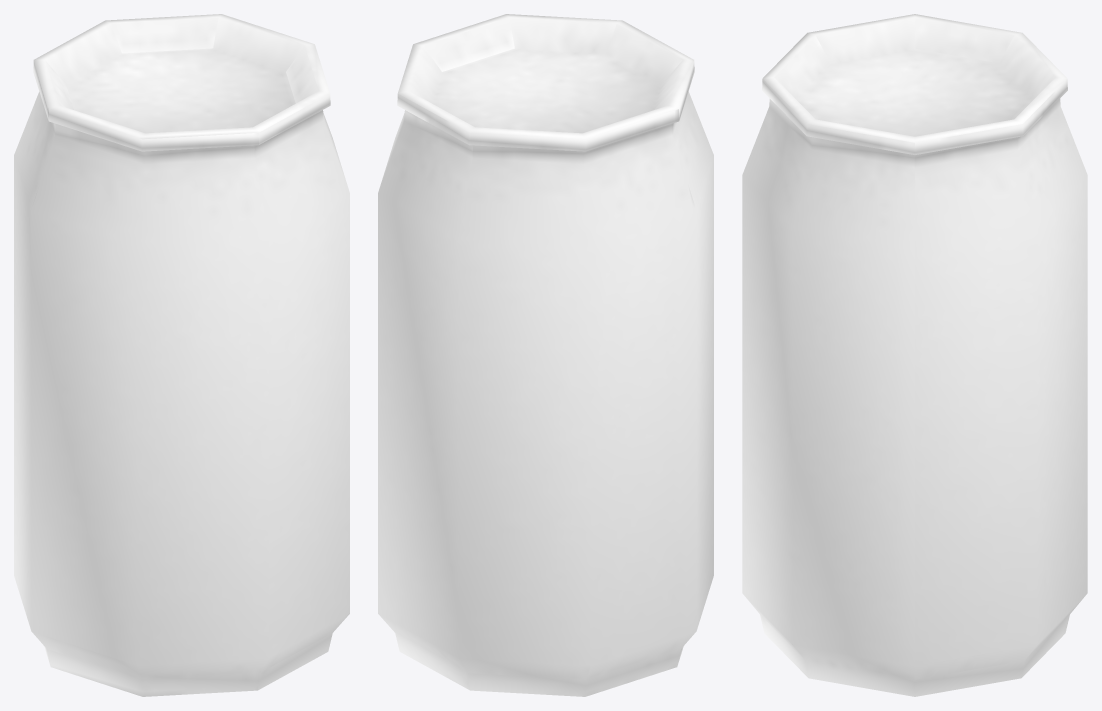
The model's file is sodaCan.glb.
3 views of the same model, side by side, from view 1: azimuth 30°, elevation 25°; view 2: azimuth 150°, elevation 25°; view 3: azimuth 270°, elevation 25° (orthographic).
Visible parts, largest first — view 1: SodaCan; view 2: SodaCan; view 3: SodaCan.
Part boxes in pixels (x1,y1,x2,y2): SodaCan: [14, 14, 349, 696]; SodaCan: [378, 14, 713, 696]; SodaCan: [742, 14, 1087, 696].
Bounding box in the file's own units: 0.07 × 0.1243 × 0.07.
Materials: 1 (1 with a texture image).
